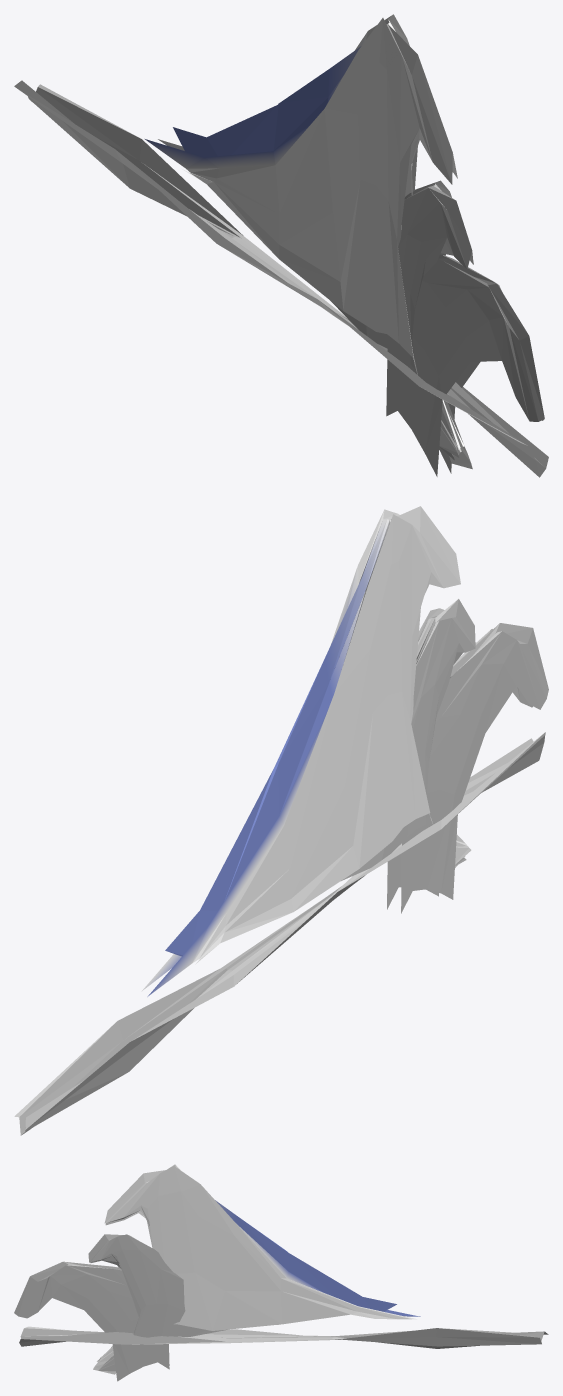
The model's file is pref_fx_Cramorant_spell01A_bullet_lv2.fbx.
The picture shows the model from 3 angles, top to bottom: view 1: azimuth 30°, elevation 25°; view 2: azimuth 150°, elevation 25°; view 3: azimuth 270°, elevation 25°; orthographic projection. The views are drawn at different scales.
Parts seen in each view (by area): view 1: lang02, lang05, dimian, lang03; view 2: lang02, lang05, dimian, lang03; view 3: lang02, lang05, dimian, lang03.
Part boxes in pixels (x1,y1,x2,y2): lang02: [145, 14, 472, 469]; lang05: [386, 254, 544, 476]; dimian: [14, 80, 548, 477]; lang03: [330, 180, 473, 460]; lang02: [141, 506, 471, 996]; lang05: [387, 623, 548, 913]; dimian: [14, 732, 545, 1135]; lang03: [341, 599, 475, 880]; lang02: [93, 1164, 420, 1374]; lang05: [14, 1261, 169, 1381]; dimian: [19, 1326, 548, 1348]; lang03: [88, 1234, 229, 1371].
Bounding box in the file's own units: 0.1279 × 2.4 × 5.41.
